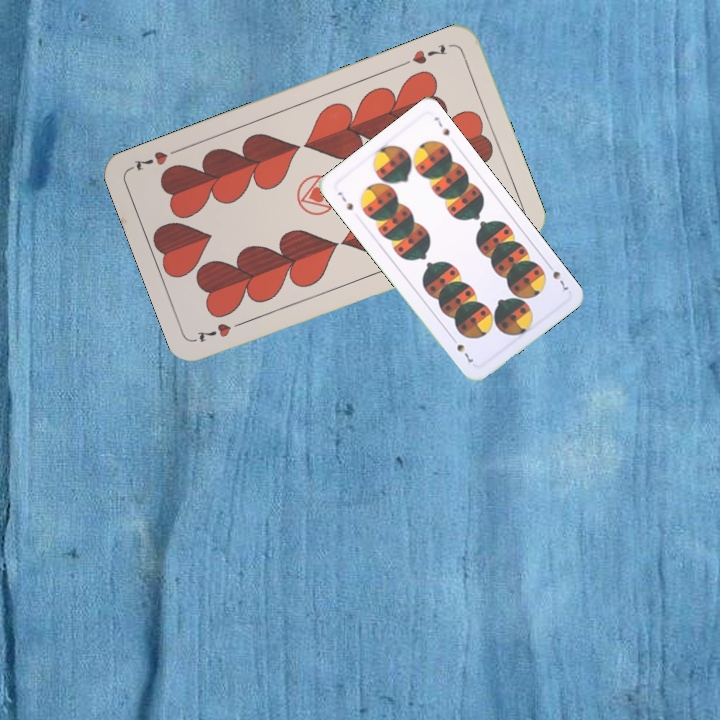H7: (192, 316, 249, 345), (397, 40, 448, 69)
S7: (543, 259, 572, 295), (334, 188, 356, 213)
